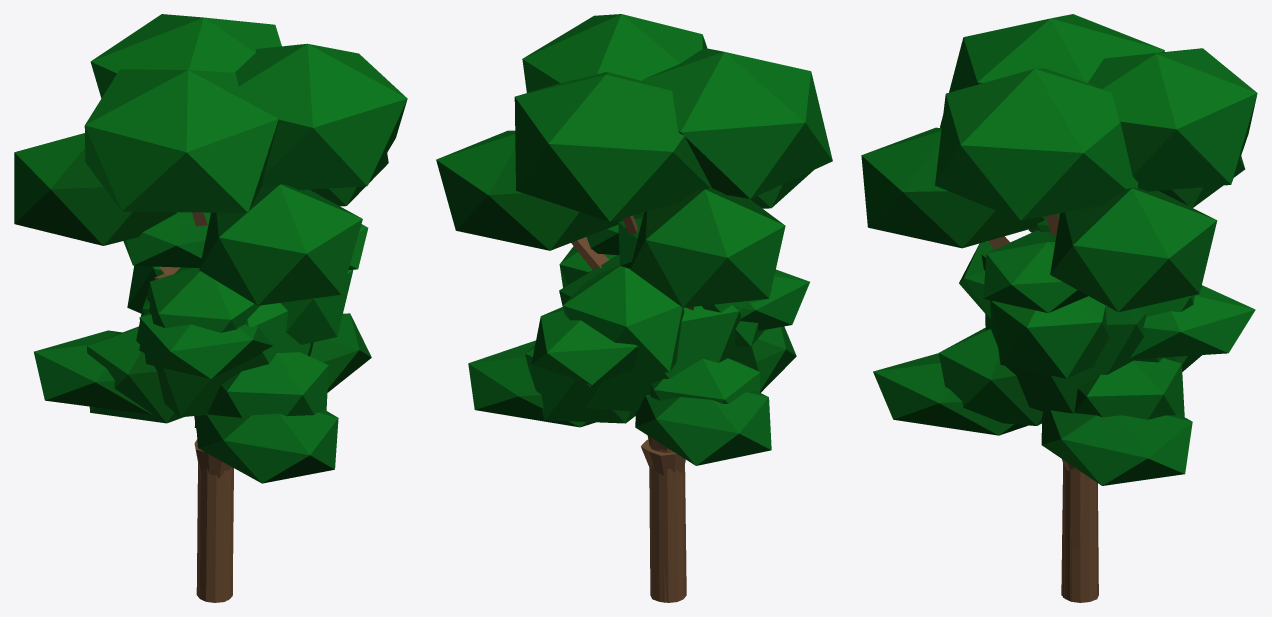
Rendered from trees.fbx.
3 views of the same model, side by side, from view 1: azimuth 30°, elevation 25°; view 2: azimuth 150°, elevation 25°; view 3: azimuth 270°, elevation 25° (orthographic). The views are drawn at different scales.
Visible parts, largest first — view 1: tree_mesh_keyaki, tree_mesh_pine, tree_mesh_round; view 2: tree_mesh_keyaki, tree_mesh_round, tree_mesh_pine; view 3: tree_mesh_keyaki, tree_mesh_pine, tree_mesh_round.
Boxes of the visible parts, x1,y1,x2,y2 form: tree_mesh_keyaki: (14, 14, 407, 602); tree_mesh_pine: (34, 212, 371, 600); tree_mesh_round: (87, 266, 353, 478); tree_mesh_keyaki: (436, 14, 832, 602); tree_mesh_round: (525, 246, 771, 475); tree_mesh_pine: (468, 212, 809, 602); tree_mesh_keyaki: (861, 14, 1257, 602); tree_mesh_pine: (873, 213, 1255, 600); tree_mesh_round: (938, 249, 1201, 471).
Bounding box in the file's own units: 6.1 × 9.35 × 5.98.
